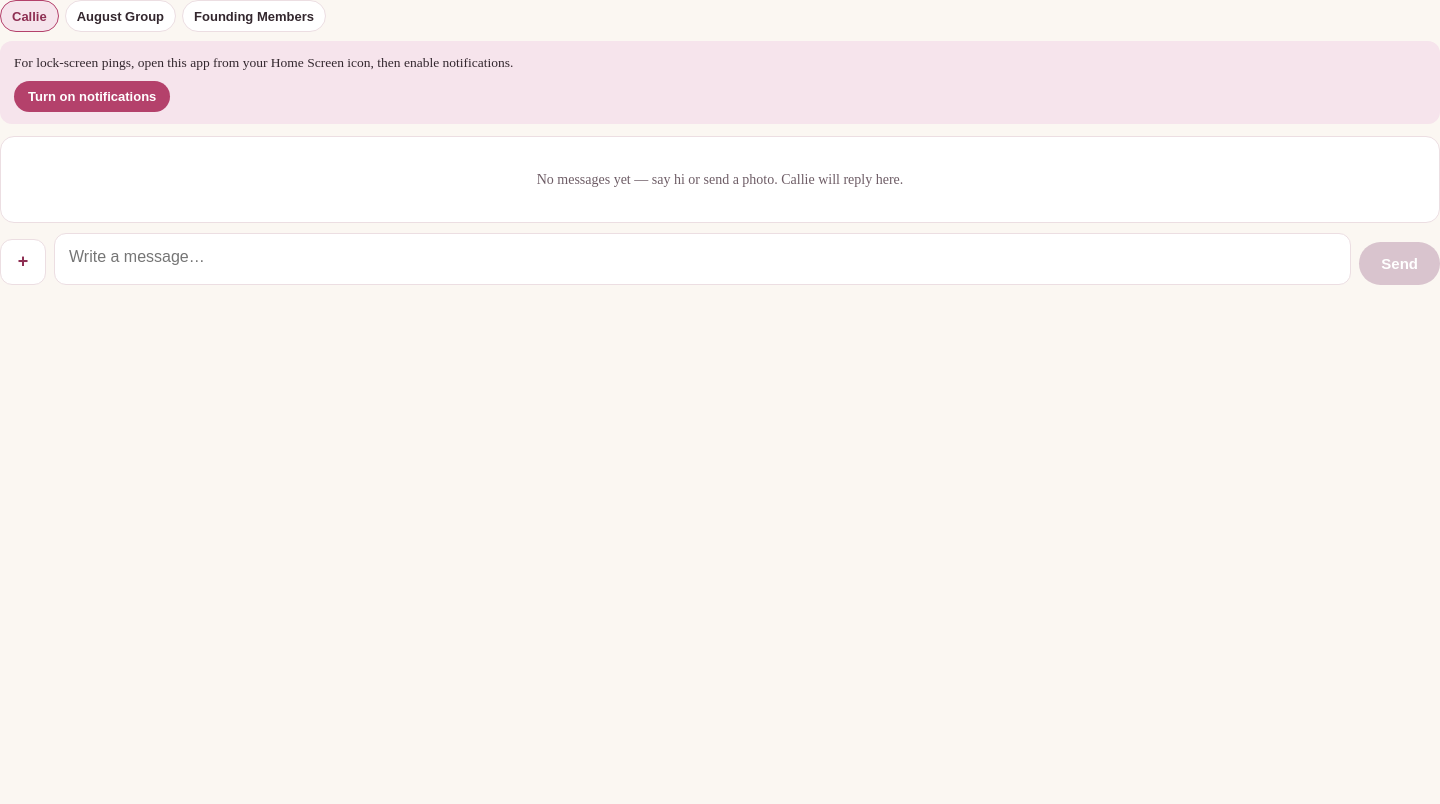
Test: load earlier messages › offers earlier history only when the first page came back full
Click the button "August Group".
click(120, 16)  # box [65,0,176,32]
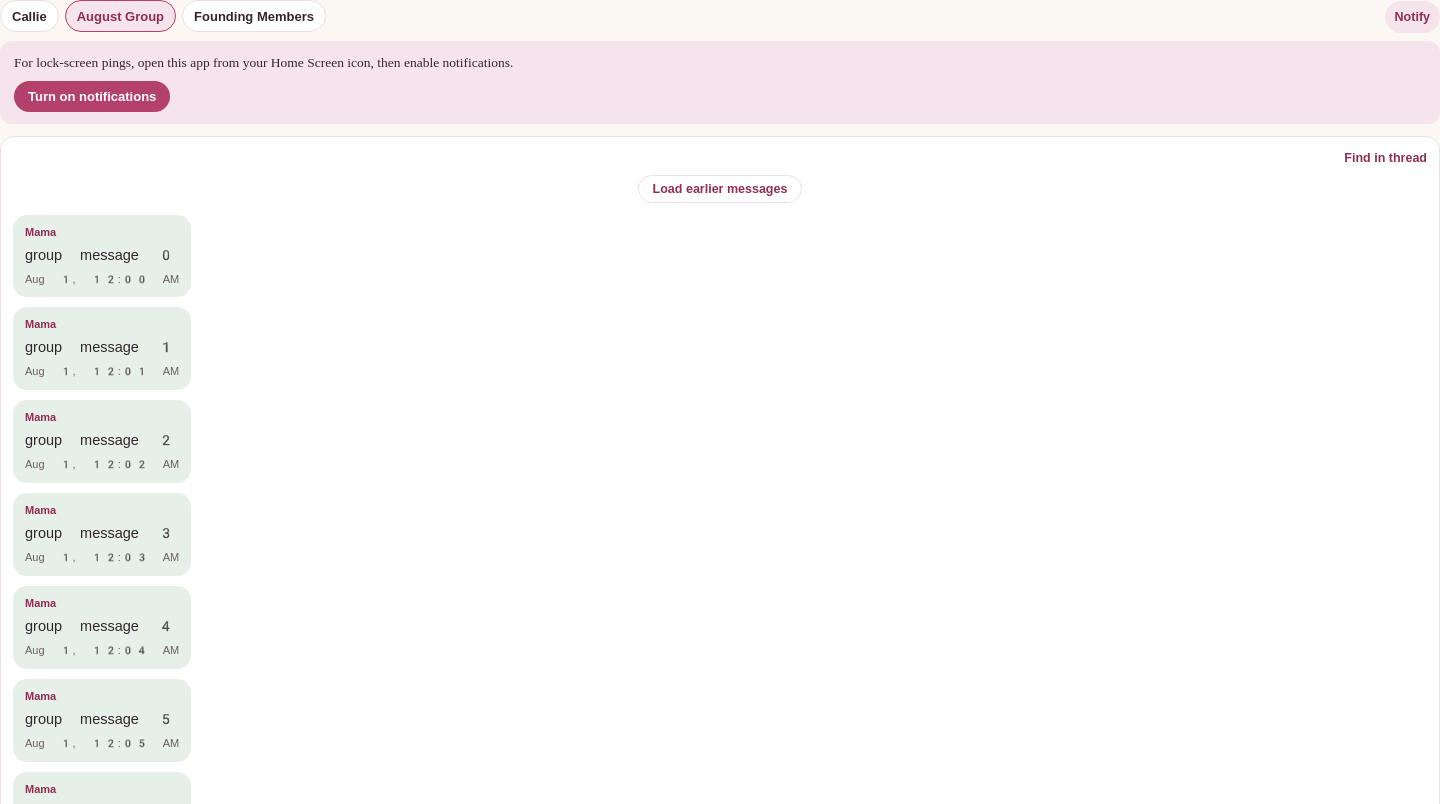
expect the button "Load earlier messages" is shown: met, box [638,175,802,203]
